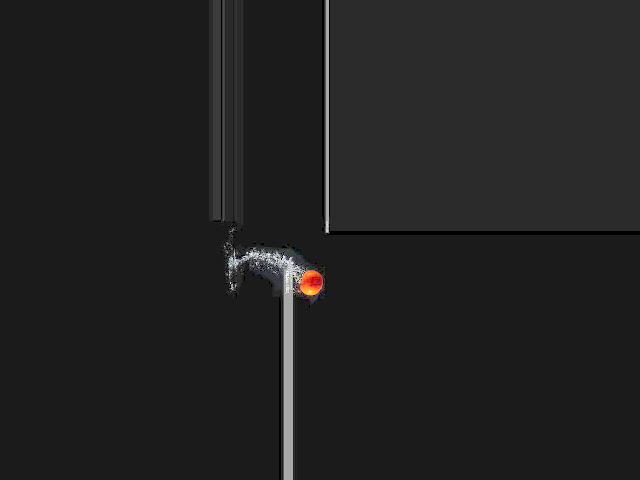tomato: (299, 270, 322, 295)
